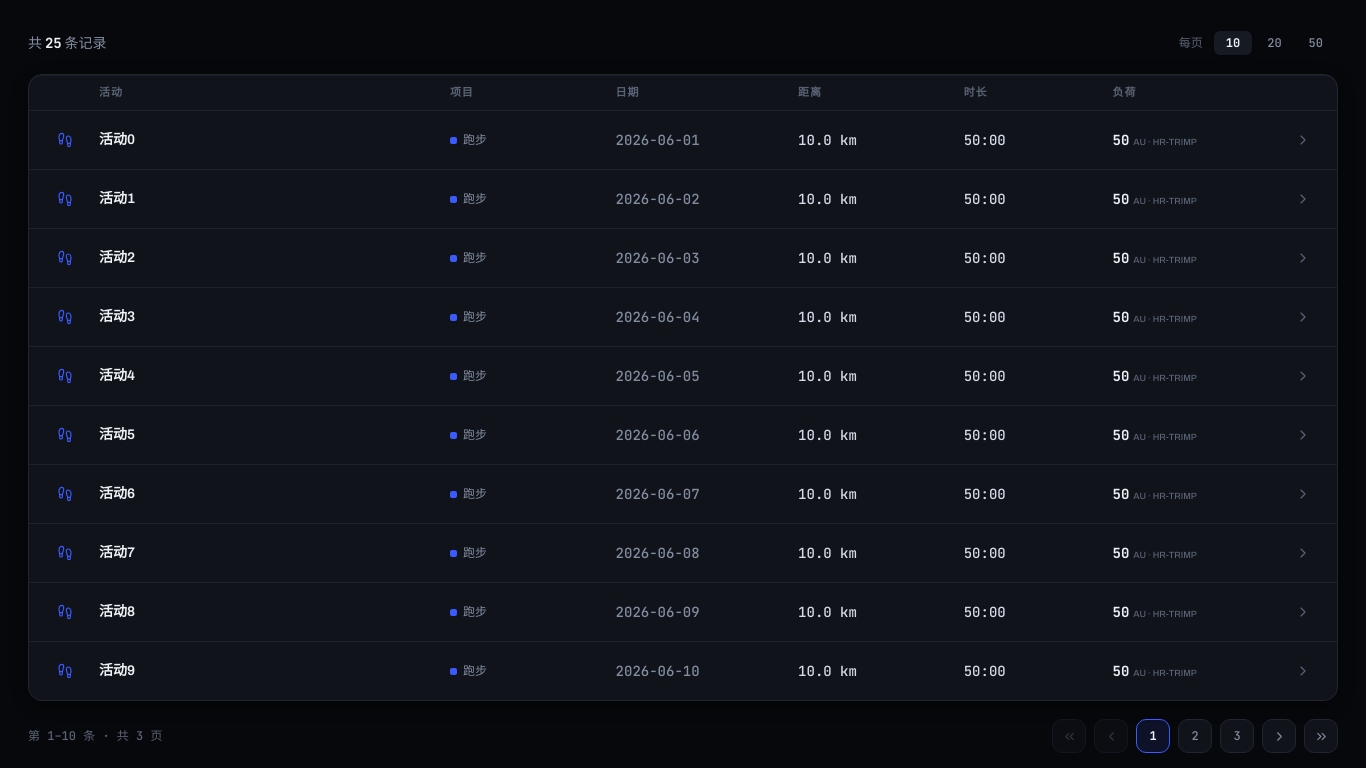
it: Records (P4) › changes page size and resets to page 1
Click the button "20": (1274, 43) [1255, 31, 1294, 55]
(page scrolled)
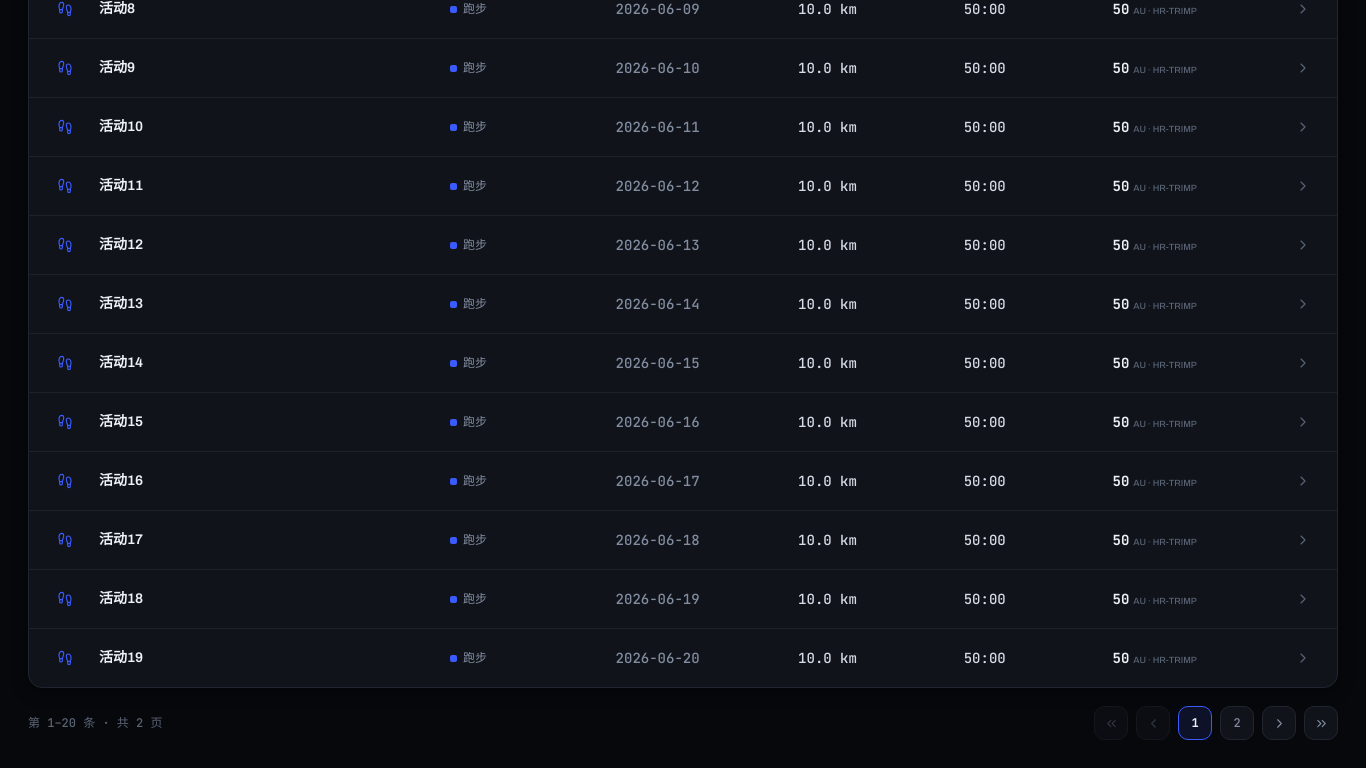
Check: the text "第 1–20 条 · 共 2 页" is shown, box [28, 717, 162, 729]
Check: the text "活动19" is shown, box [99, 650, 143, 665]
